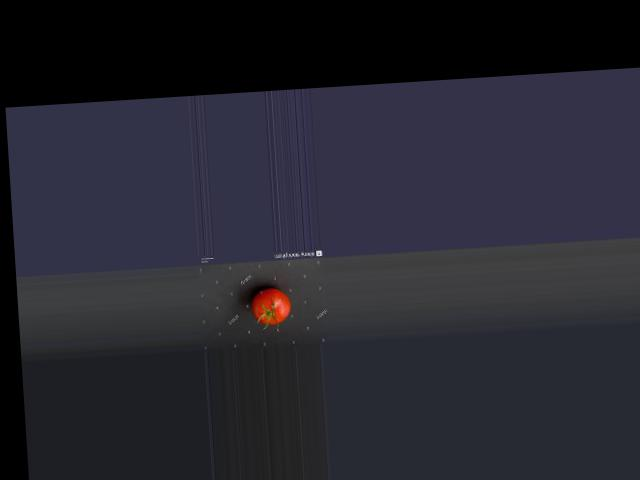tomato: (250, 288, 291, 325)
